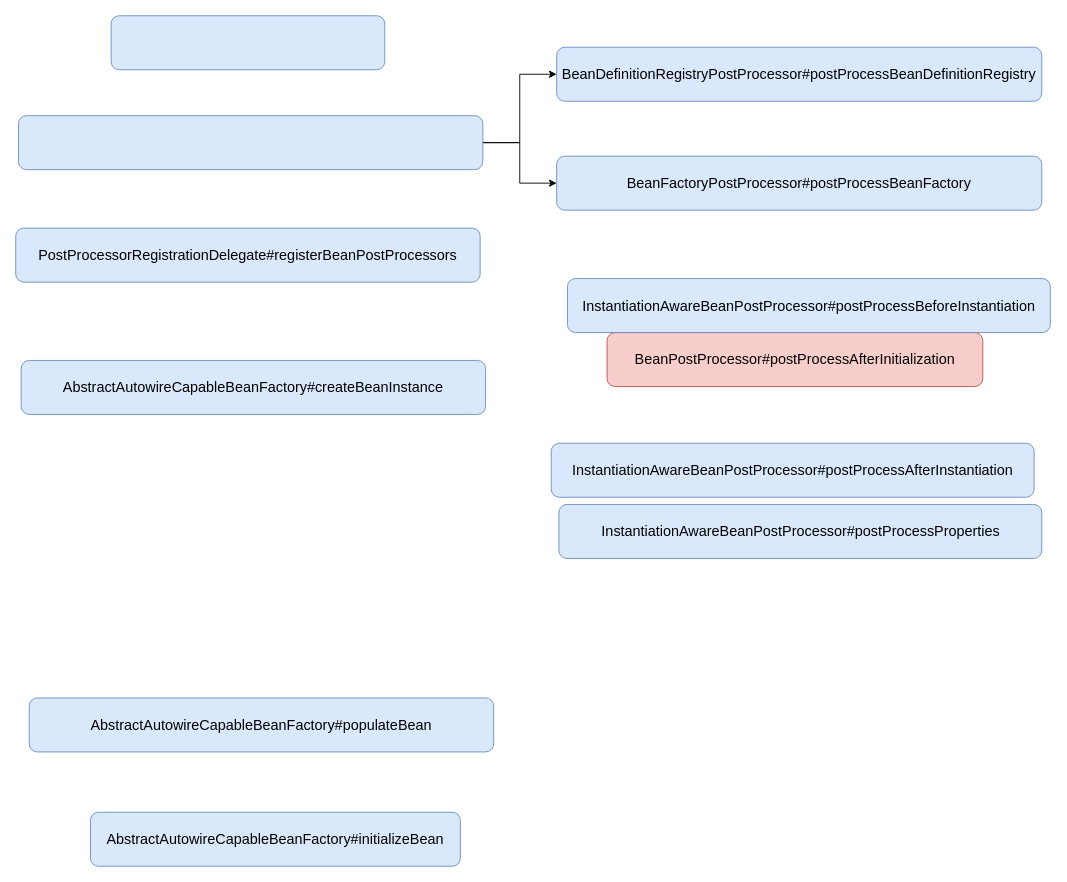
Some shapes in this 1067 by 882 pixel diagram are drawn without their labels. The centre of each missing label's shape, as x and y in pixels:
AbstractApplicationContext#invokeBeanFactoryPostProcessors: pixel 250 142
AbstractApplicationContext#refresh: pixel 247 42
